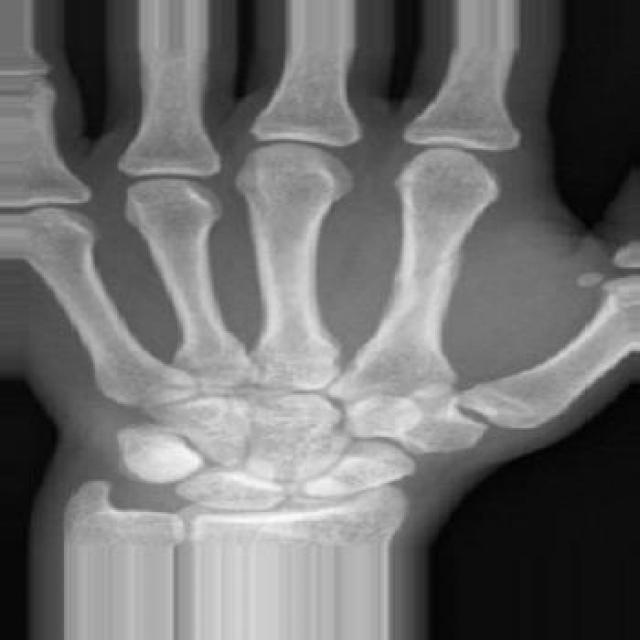Fracture: (395, 243, 477, 283)
